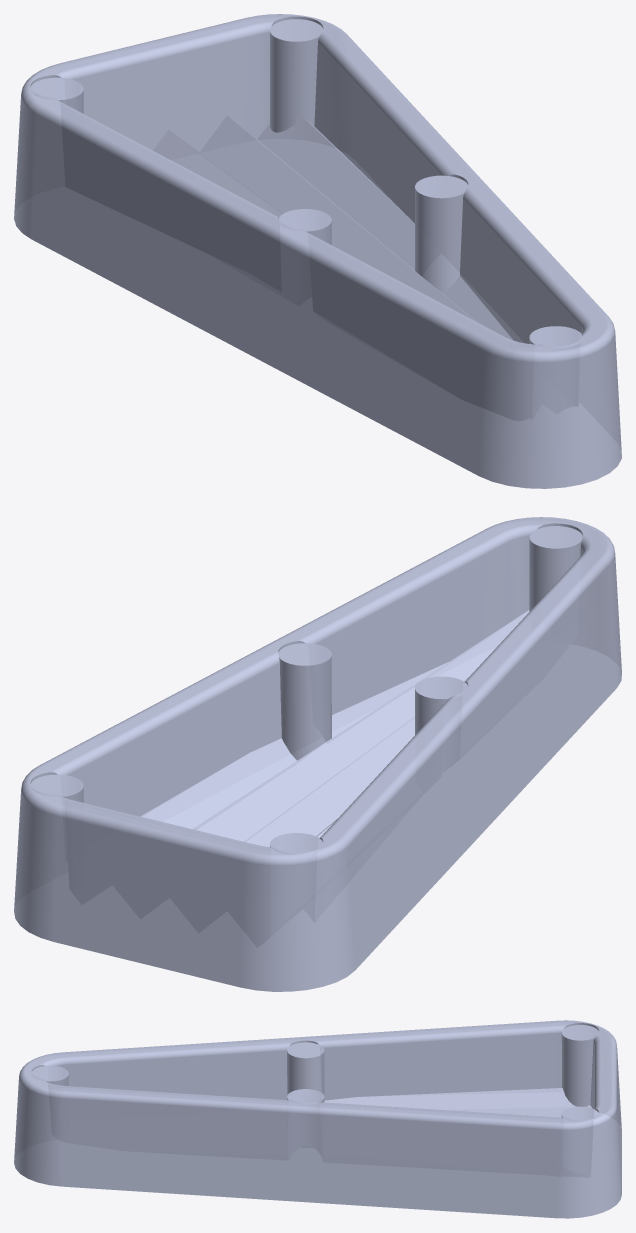
File: Insert 1.5' Triangle, Starbust (PI-112TGT).fbx
3 views of the same model, one above another, from view 1: azimuth 30°, elevation 25°; view 2: azimuth 150°, elevation 25°; view 3: azimuth 270°, elevation 25° (orthographic). The views are drawn at different scales.
Parts seen in each view (by area): view 1: Insert 1.5' Triangle, Starbust (PI-112TGT); view 2: Insert 1.5' Triangle, Starbust (PI-112TGT); view 3: Insert 1.5' Triangle, Starbust (PI-112TGT).
Boxes of the visible parts, x1,y1,x2,y2 form: Insert 1.5' Triangle, Starbust (PI-112TGT): [14, 14, 621, 488]; Insert 1.5' Triangle, Starbust (PI-112TGT): [14, 517, 621, 991]; Insert 1.5' Triangle, Starbust (PI-112TGT): [14, 1020, 621, 1218].
Size of the model in its own units: 1.65 by 0.635 by 3.83.
